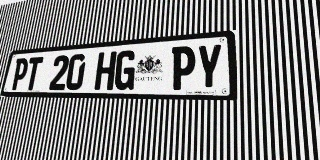0: (65, 53, 86, 90)
2: (49, 55, 70, 90)
G: (113, 50, 137, 90)
H: (94, 51, 117, 90)
P: (170, 45, 196, 90), (10, 58, 30, 90)
T: (23, 57, 43, 90)
Y: (195, 43, 222, 90)
